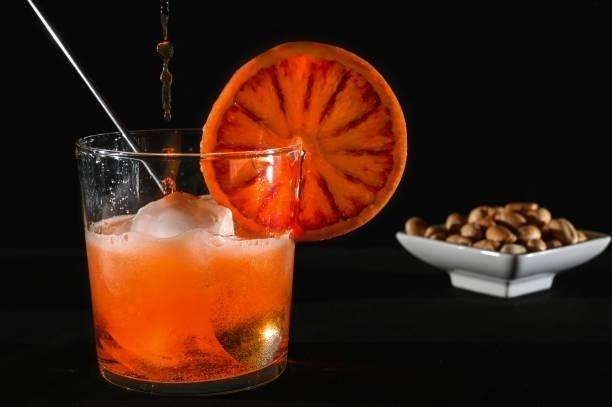glass-normal: (74, 127, 306, 397)
